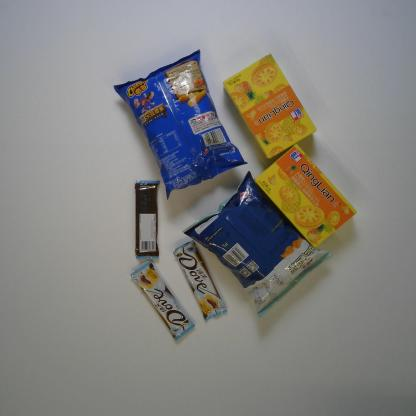Chocolate: (130, 261, 196, 341), (173, 240, 228, 321), (135, 180, 160, 260)
Dessert: (254, 144, 358, 248), (223, 53, 318, 160)
Puffed Food: (183, 170, 334, 318), (113, 49, 249, 202)
